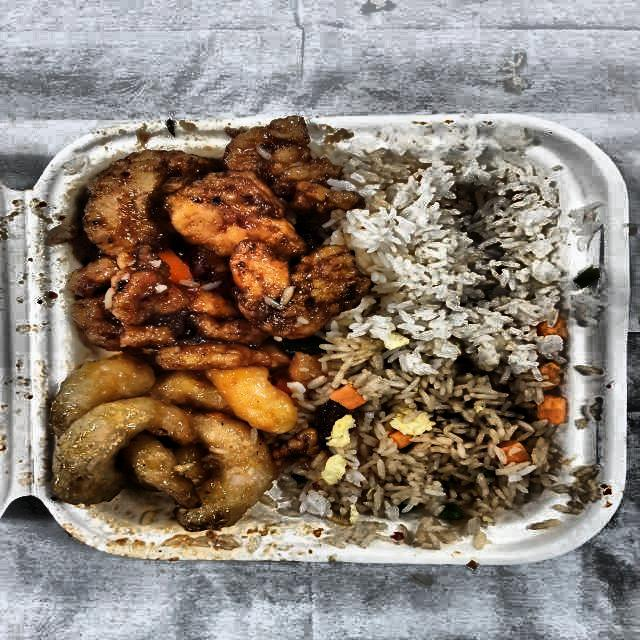Food: (68, 118, 362, 364), (320, 333, 578, 540), (49, 348, 318, 534), (356, 150, 570, 350)
